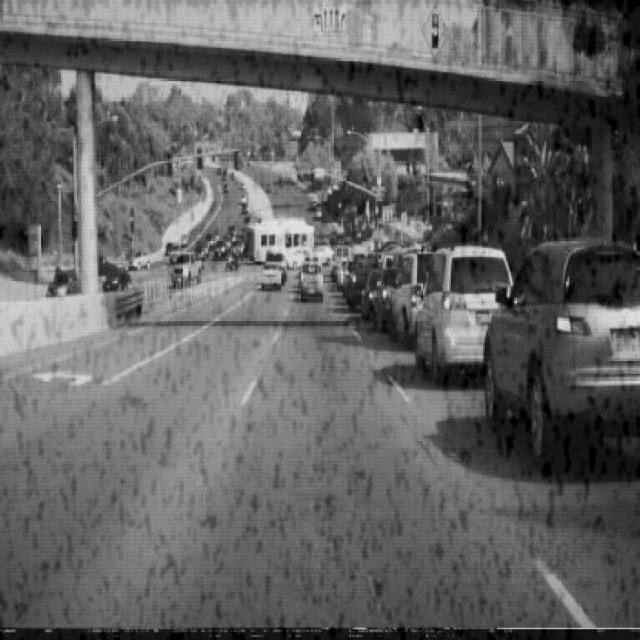signalAhead: (422, 4, 449, 58)
